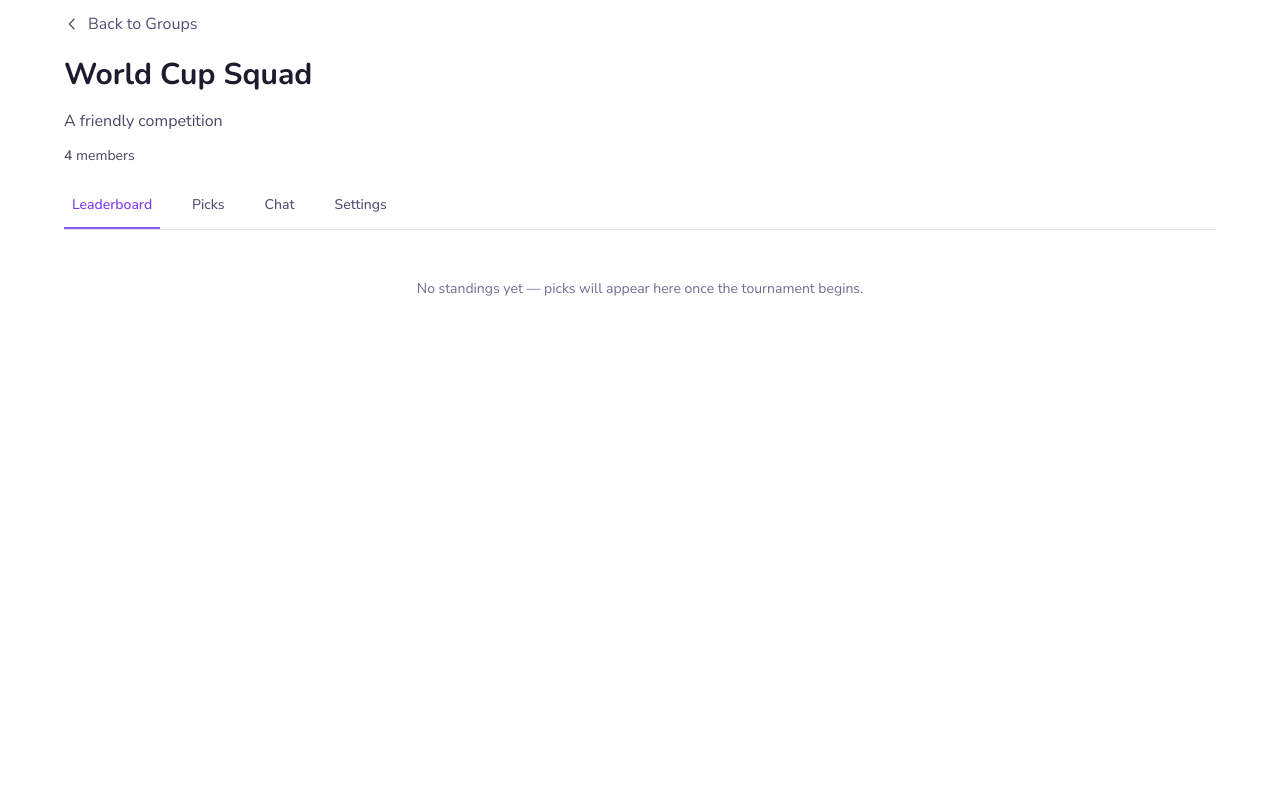
it: GroupDetailsPage › World Cup pool › embeds the World Cup pick-making surface on the Picks tab
Expected: the heading "World Cup Squad" is shown, [64,54,312,95]
Click the tab "Picks" at (208, 212), box [184,194,233,229]
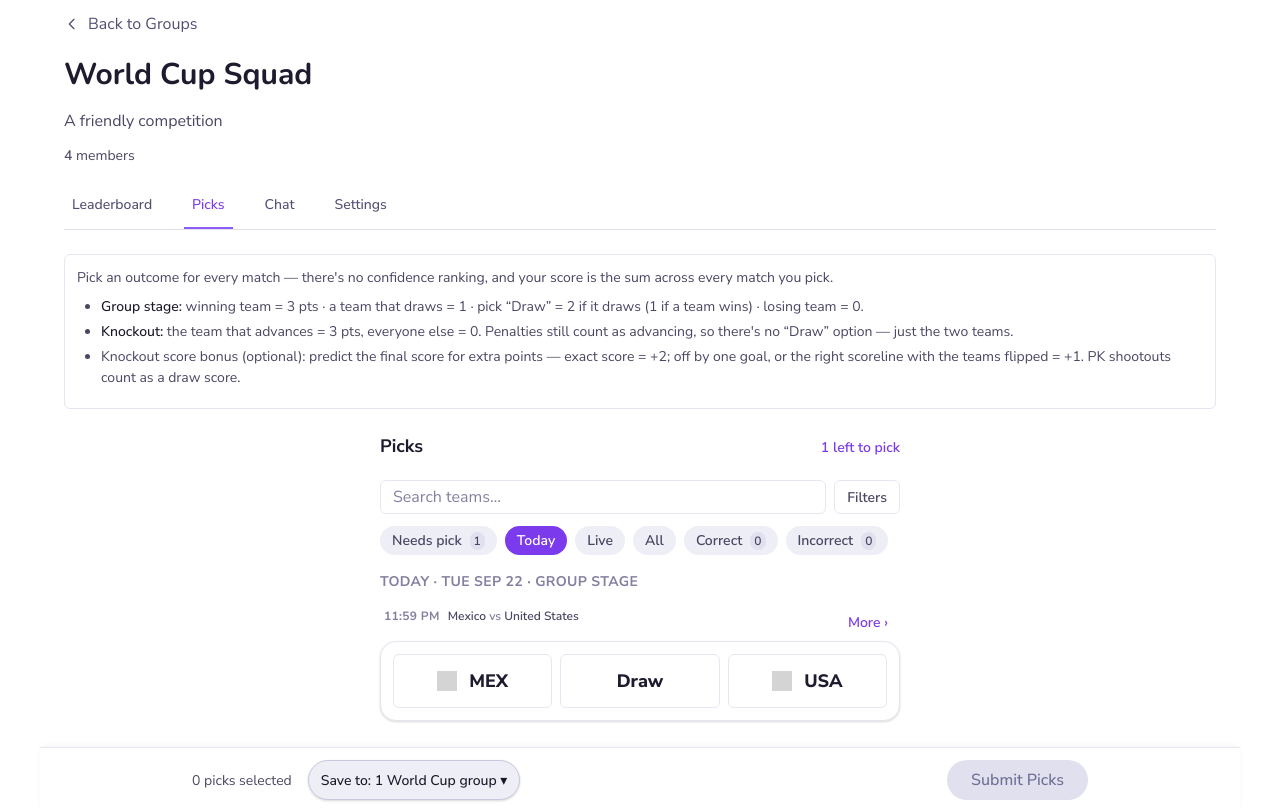
Expected: the element showing "Mexico vs United States" is shown, [448,608,579,624]
Expected: the button "MEX" is shown, [393,654,552,708]
